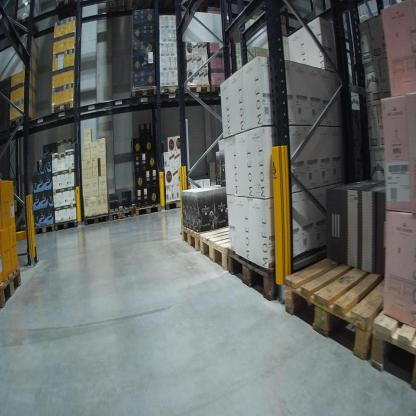pallet: (283, 246, 394, 365), (226, 243, 294, 302), (371, 313, 415, 387), (8, 96, 82, 127), (201, 223, 237, 272), (179, 219, 224, 256), (1, 265, 23, 310), (109, 200, 134, 224), (15, 13, 39, 36), (83, 207, 112, 226), (56, 1, 85, 19), (134, 200, 163, 217), (55, 216, 82, 233), (184, 81, 209, 97), (132, 85, 158, 100), (105, 2, 132, 16), (158, 82, 182, 97), (165, 198, 186, 213), (30, 224, 55, 236), (211, 82, 232, 96)
